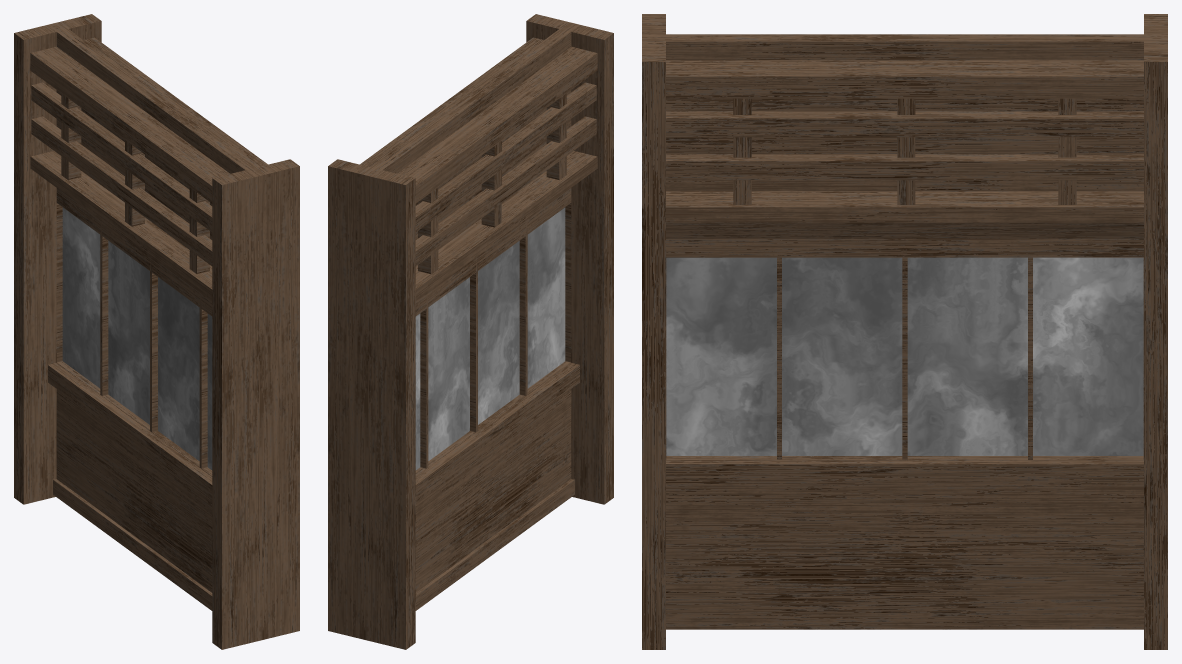
The model's file is SM_modules_01.fbx.
3 renders of one model, left to right at view 1: azimuth 30°, elevation 25°; view 2: azimuth 150°, elevation 25°; view 3: azimuth 270°, elevation 25°, orthographic. The views are drawn at different scales.
Visible parts, largest first — view 1: SM_modules_01; view 2: SM_modules_01; view 3: SM_modules_01.
Boxes of the visible parts, x1=… form: SM_modules_01: x1=14, y1=14, x2=299, y2=649; SM_modules_01: x1=328, y1=14, x2=613, y2=649; SM_modules_01: x1=642, y1=14, x2=1167, y2=649.
Bounding box in the file's own units: 64.94 × 300 × 370.
Materials: 2 (2 with a texture image).
